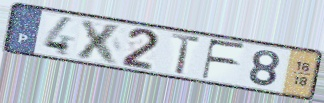2: (120, 27, 162, 72)
4: (39, 15, 75, 58)
8: (248, 49, 281, 87)
F: (200, 38, 248, 81)
T: (169, 31, 203, 76)
X: (73, 17, 126, 66)
